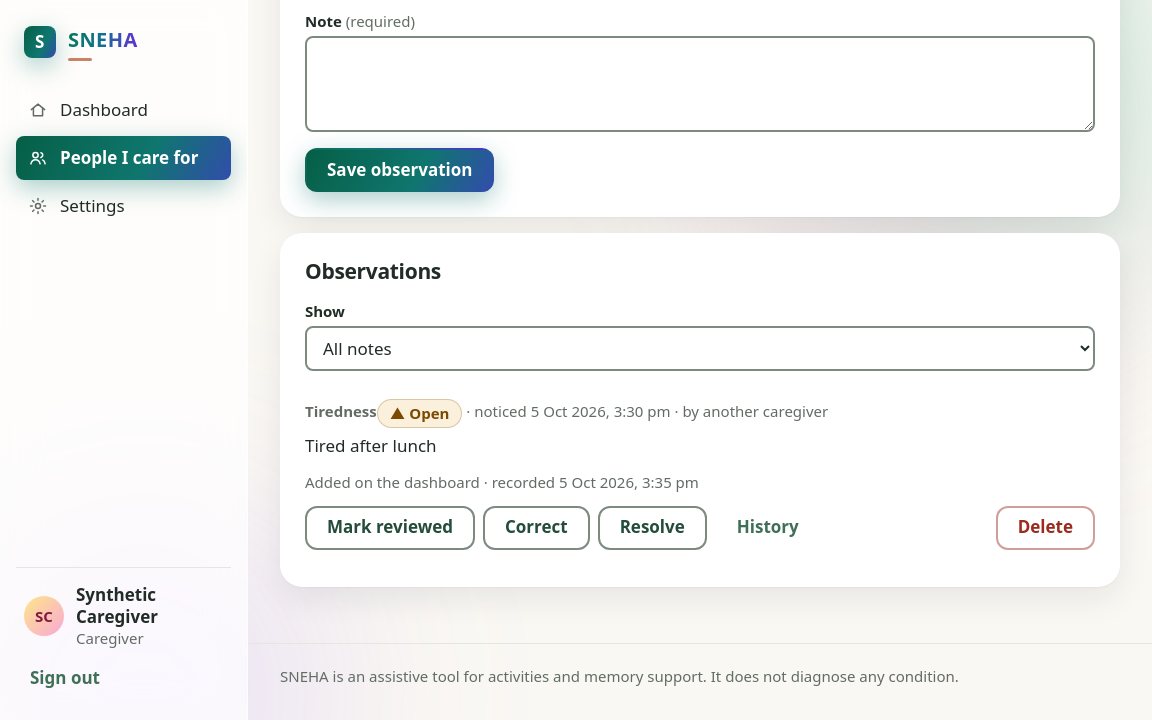
it: caregiver observations › manager reviews, then resolves with a note
(page scrolled)
Click the button with aria-label "Mark as reviewed:": click(390, 528) [305,506,475,550]
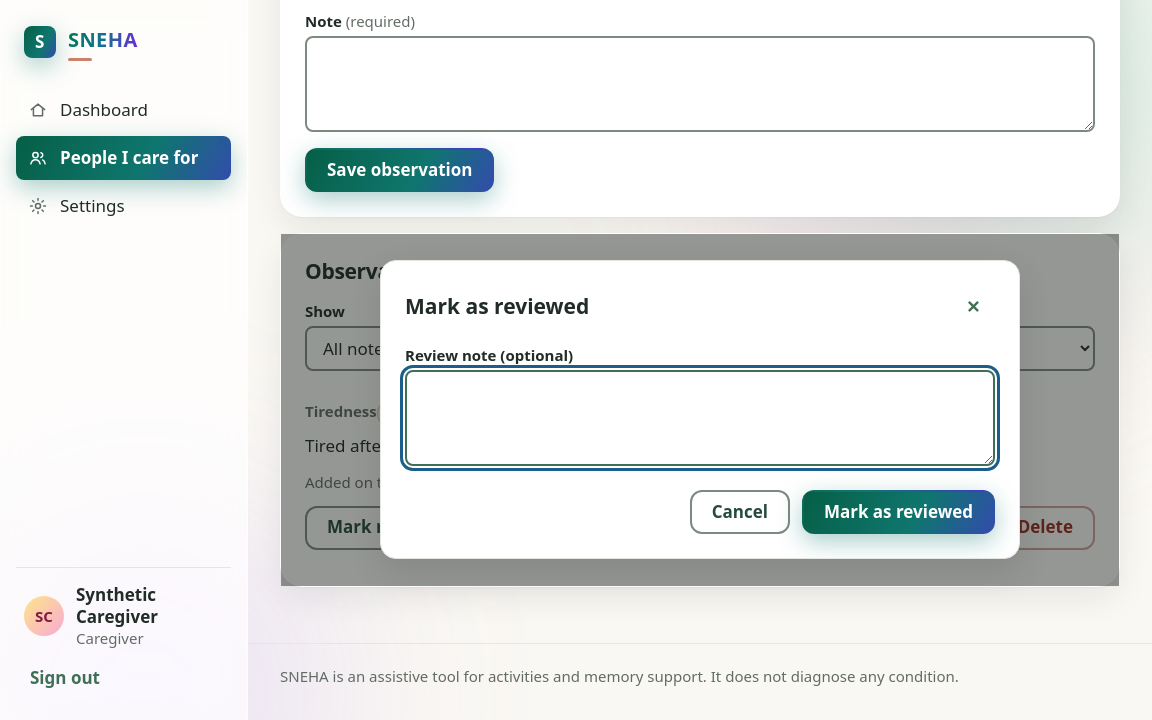
In the text box labelled "Review note (optional)": (700, 418) [405,370,995,466], type "Talked with the family"
Click the button "Mark as reviewed": click(898, 512) [802,490,995,534]
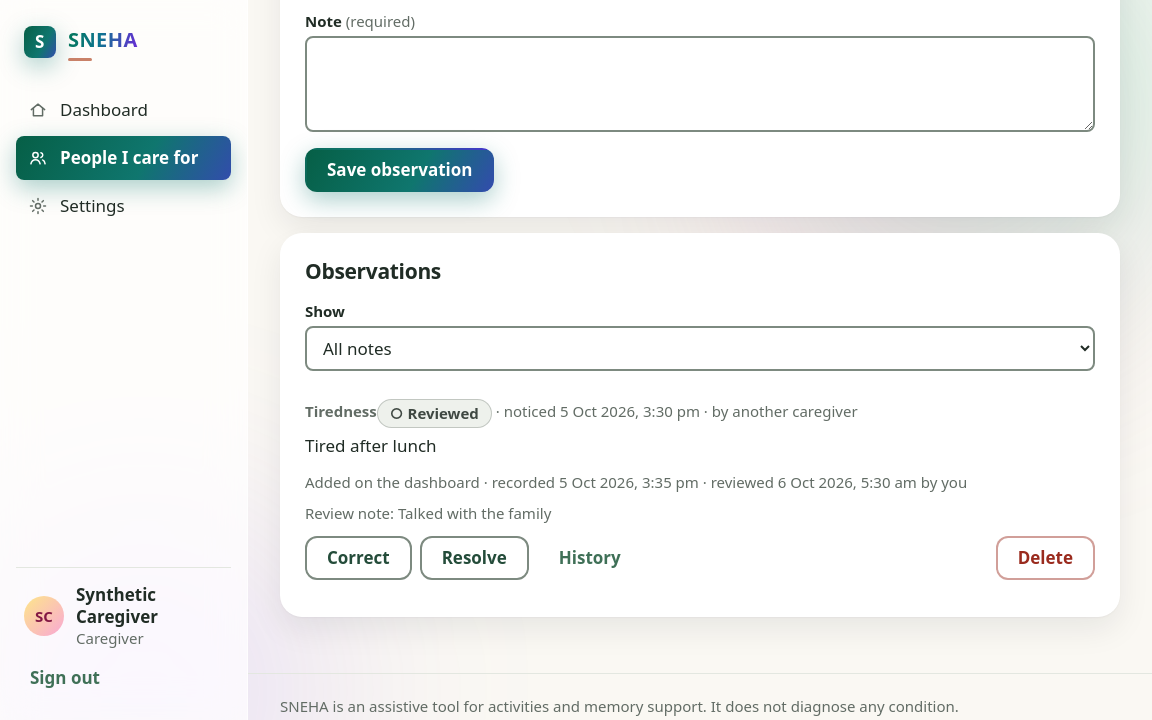
Now the text "Review note: Talked with the family" is shown, box [305,503,551,523]
Click the button with aria-label "Resolve:": click(474, 558) [420,536,529,580]
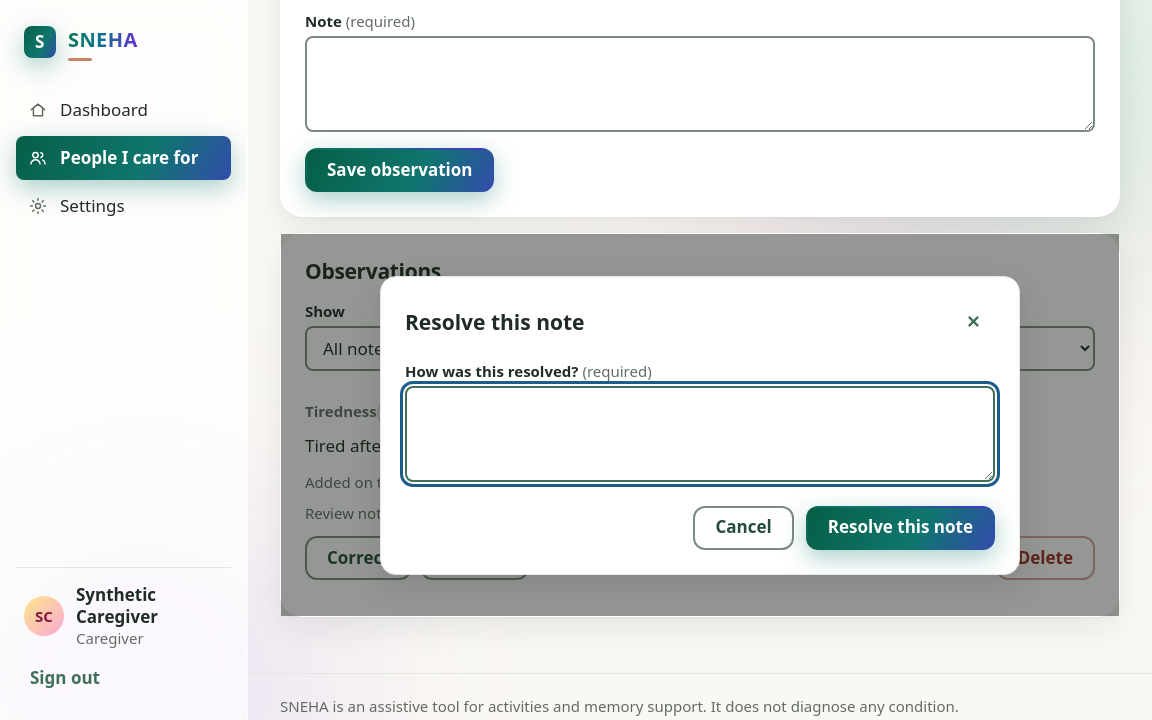
Click the button "Resolve this note": click(900, 528) [806,506,995,550]
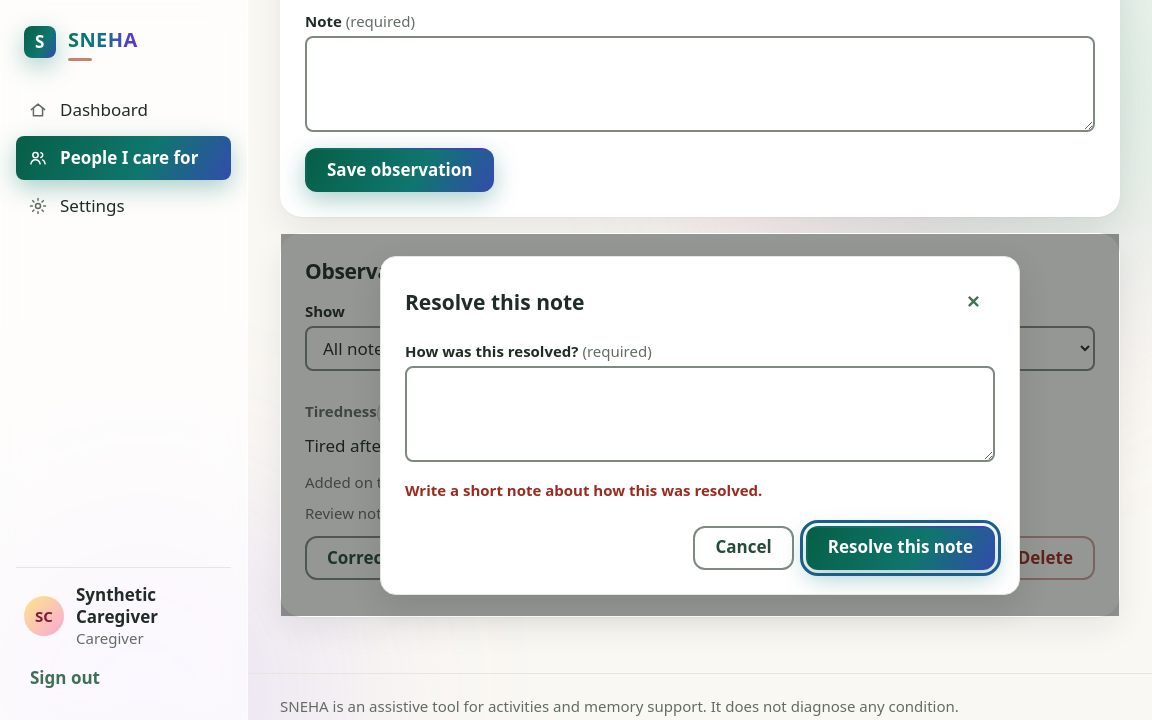
Now the text "Write a short note about how this was resolved." is shown, box [405,480,762,500]
In the text box labelled "How was this resolved? (required)": (700, 414) [405,366,995,462], type "Rested more; fine now"
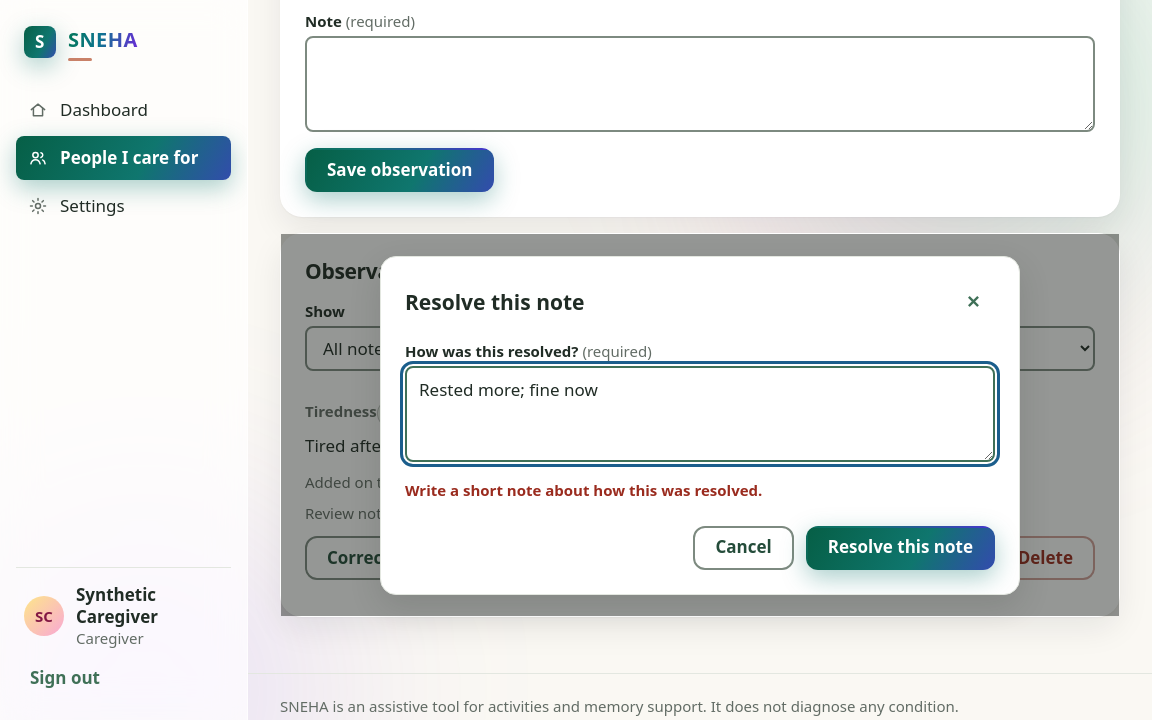
Click the button "Resolve this note": click(900, 548) [806,526,995,570]
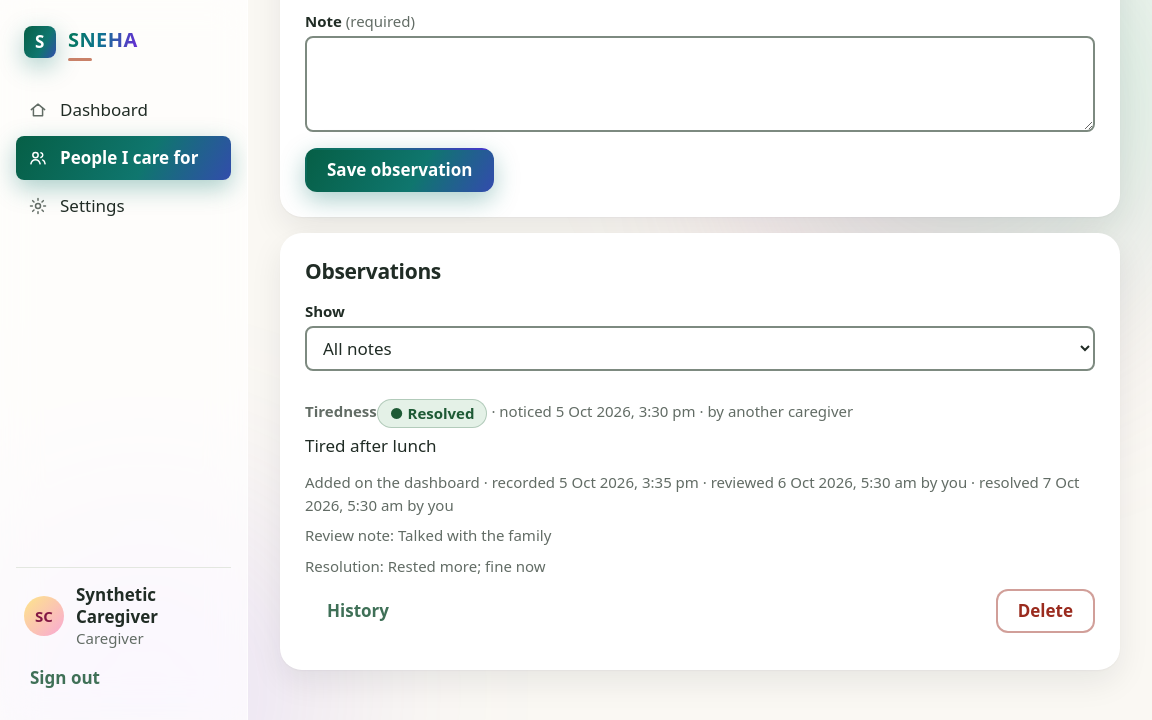
Now the text "Resolution: Rested more; fine now" is shown, box [305,556,546,576]
